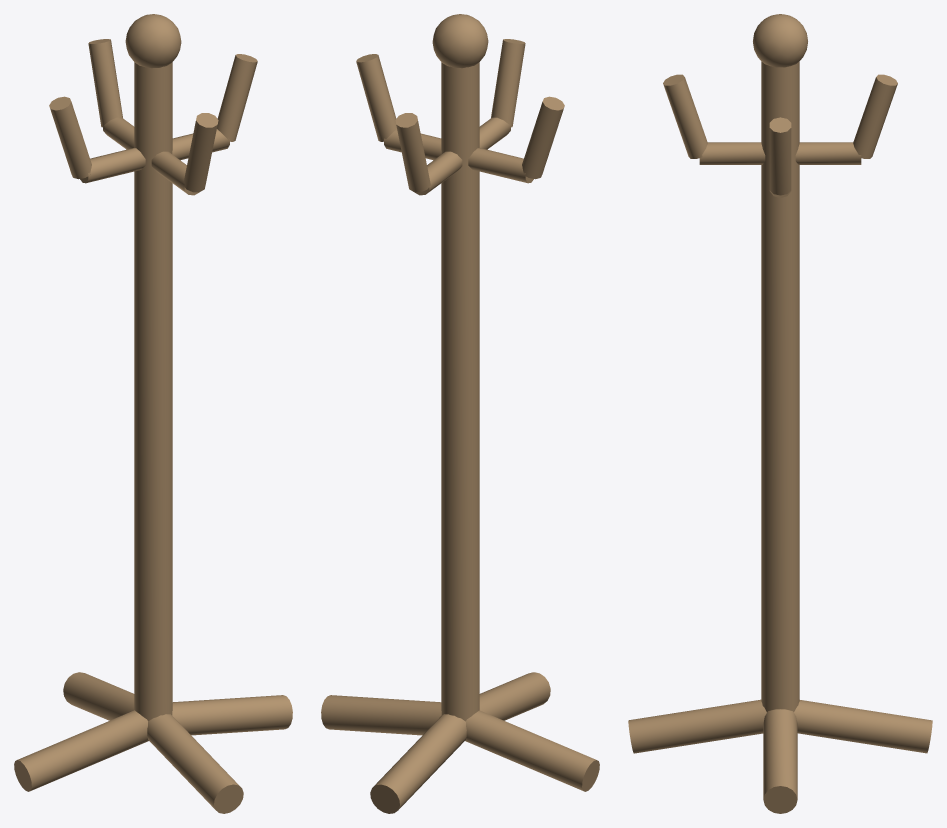
File: coat_rack.glb
3 renders of one model, left to right at view 1: azimuth 30°, elevation 25°; view 2: azimuth 150°, elevation 25°; view 3: azimuth 270°, elevation 25°, orthographic.
Parts seen in each view (by area): view 1: post_1, foot_8, foot_11, foot_2, finial_14, foot_5, hook_4, hook_7, hook_10, hook_13, hook_9, hook_12 (+2 smaller); view 2: post_1, foot_8, foot_5, foot_2, finial_14, foot_11, hook_4, hook_13, hook_10, hook_7, hook_9, hook_6 (+2 smaller); view 3: post_1, foot_11, foot_5, foot_2, finial_14, hook_13, hook_7, hook_4, hook_6, hook_12.
Boxes of the visible parts, x1,y1,x2,y2 form: post_1: (134, 62, 172, 721); foot_8: (14, 710, 148, 791); foot_11: (147, 714, 243, 813); foot_2: (172, 695, 292, 735); finial_14: (125, 14, 181, 68); foot_5: (63, 672, 134, 720); hook_4: (217, 54, 257, 141); hook_7: (88, 39, 122, 127); hook_10: (49, 96, 91, 179); hook_13: (183, 113, 218, 192); hook_9: (80, 148, 145, 183); hook_12: (151, 151, 198, 195); post_1: (441, 62, 479, 721); foot_8: (465, 710, 599, 791); foot_5: (370, 714, 466, 813); foot_2: (321, 695, 441, 735); finial_14: (432, 14, 488, 68); foot_11: (479, 672, 550, 720); hook_4: (356, 54, 396, 141); hook_13: (491, 39, 525, 127); hook_10: (522, 96, 564, 179); hook_7: (395, 113, 430, 192); hook_9: (468, 148, 533, 183); hook_6: (414, 151, 462, 195); post_1: (761, 61, 799, 711); foot_11: (628, 699, 766, 753); foot_5: (794, 700, 932, 753); foot_2: (763, 709, 797, 813); finial_14: (753, 14, 807, 67); hook_13: (663, 74, 707, 158); hook_7: (853, 74, 897, 158); hook_4: (769, 117, 791, 195); hook_6: (795, 142, 861, 164); hook_12: (699, 142, 765, 164).
Bounding box in the file's own units: 0.7135 × 1.9 × 0.7133.
